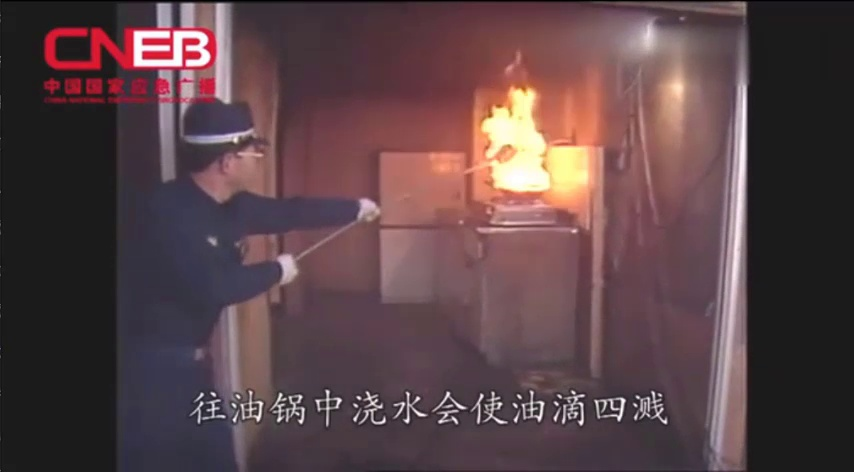fire: (478, 58, 555, 196)
